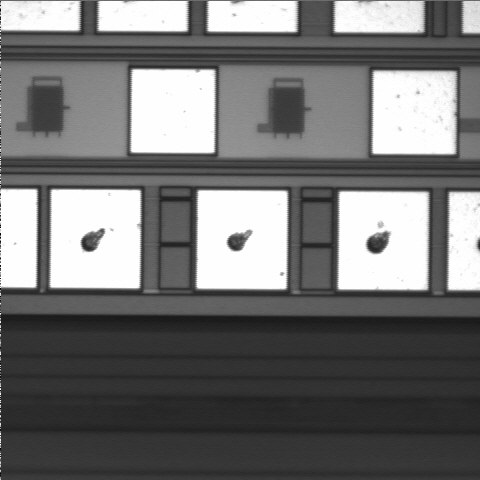pad: (197, 190, 287, 289), (338, 191, 428, 290), (50, 190, 140, 288), (131, 69, 215, 153), (373, 71, 456, 154)
